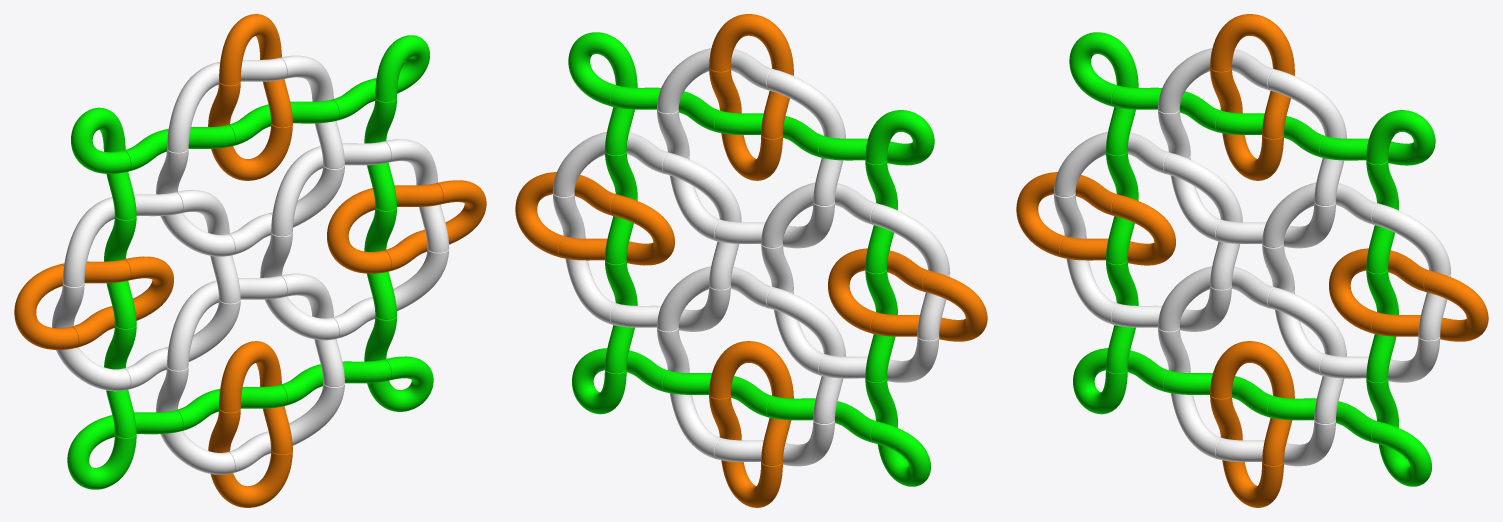
File: Diamond Test 1 Meshes.fbx
3 renders of one model, left to right at view 1: azimuth 30°, elevation 25°; view 2: azimuth 150°, elevation 25°; view 3: azimuth 330°, elevation 25°, orthographic.
Visible parts, largest first — view 1: Dark Blue, Light Blue; view 2: Dark Blue, Light Blue; view 3: Dark Blue, Light Blue.
Part boxes in pixels (box(x1,y1,x2,y2)): Dark Blue: box(14, 14, 486, 507); Light Blue: box(67, 35, 433, 489); Dark Blue: box(515, 14, 987, 507); Light Blue: box(568, 32, 934, 486); Dark Blue: box(1016, 14, 1488, 507); Light Blue: box(1069, 32, 1435, 486).
Bounding box in the file's own units: 198 × 198 × 16.
